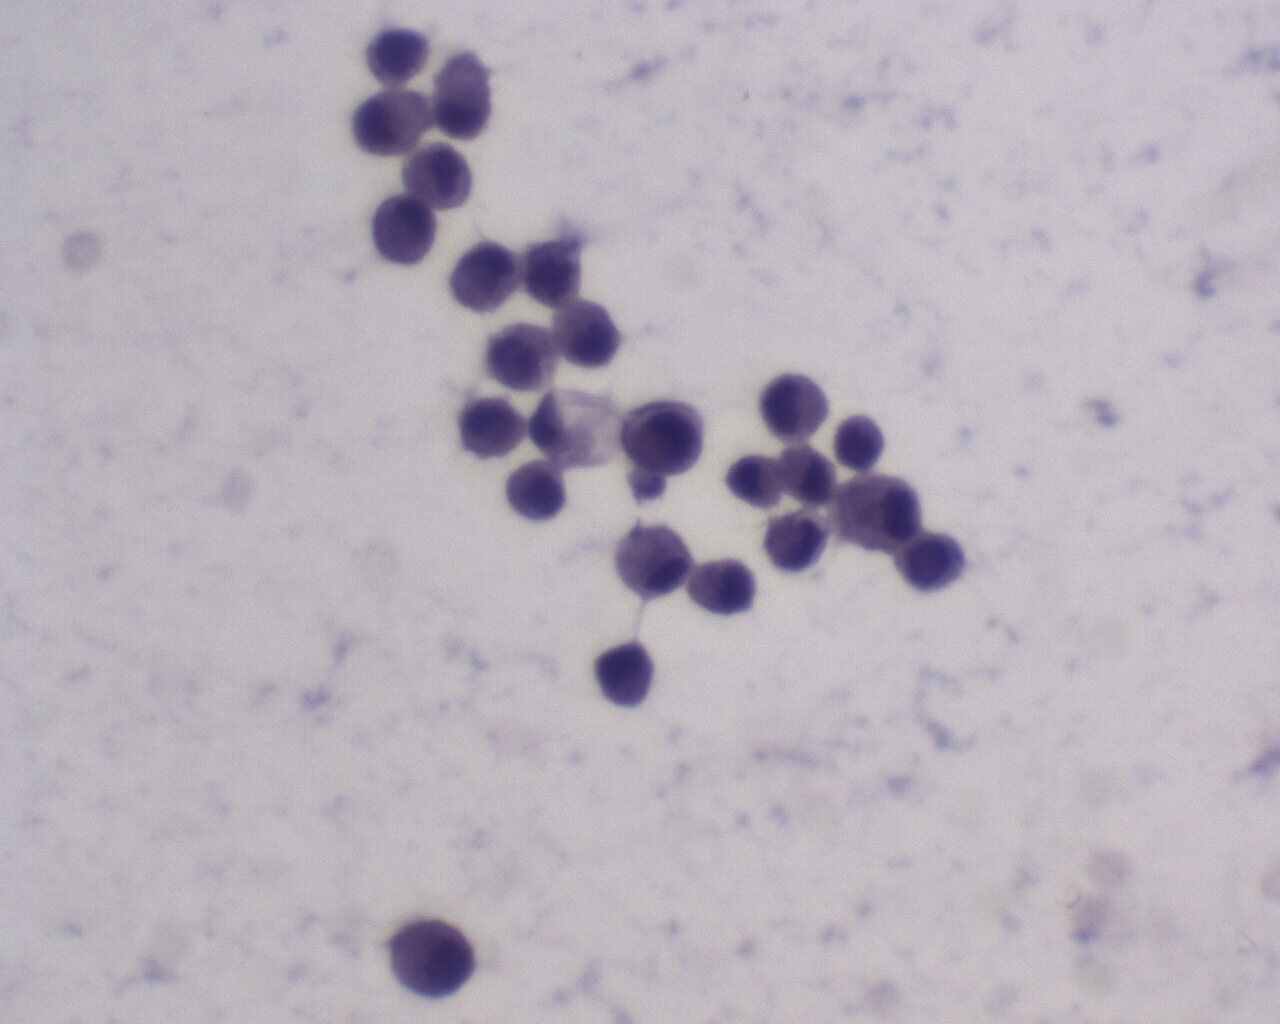ab: (387, 911, 475, 998), (623, 393, 707, 482), (445, 236, 520, 316), (401, 133, 475, 209), (488, 317, 560, 394), (759, 505, 833, 577), (594, 634, 664, 711), (897, 529, 973, 598), (523, 233, 594, 307), (457, 393, 534, 458), (501, 458, 571, 526), (365, 28, 443, 86)
histo: (834, 470, 924, 554), (614, 523, 694, 600)
meso: (551, 297, 626, 370), (757, 372, 837, 440)
